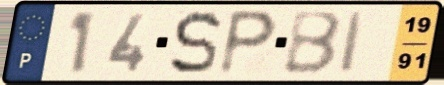1: (66, 9, 96, 77)
4: (104, 11, 148, 74)
B: (281, 9, 344, 77)
I: (336, 10, 369, 77)
P: (215, 8, 281, 78)
S: (167, 9, 224, 77)
